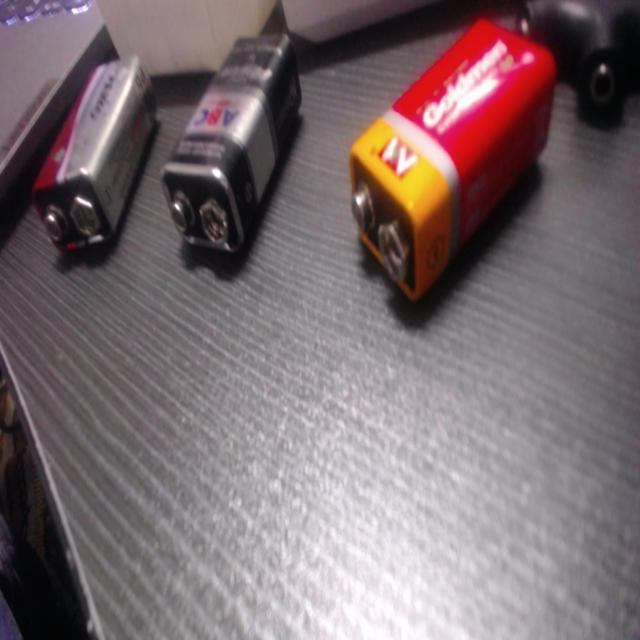9V: (331, 6, 561, 307), (152, 21, 316, 287), (28, 37, 160, 269)
